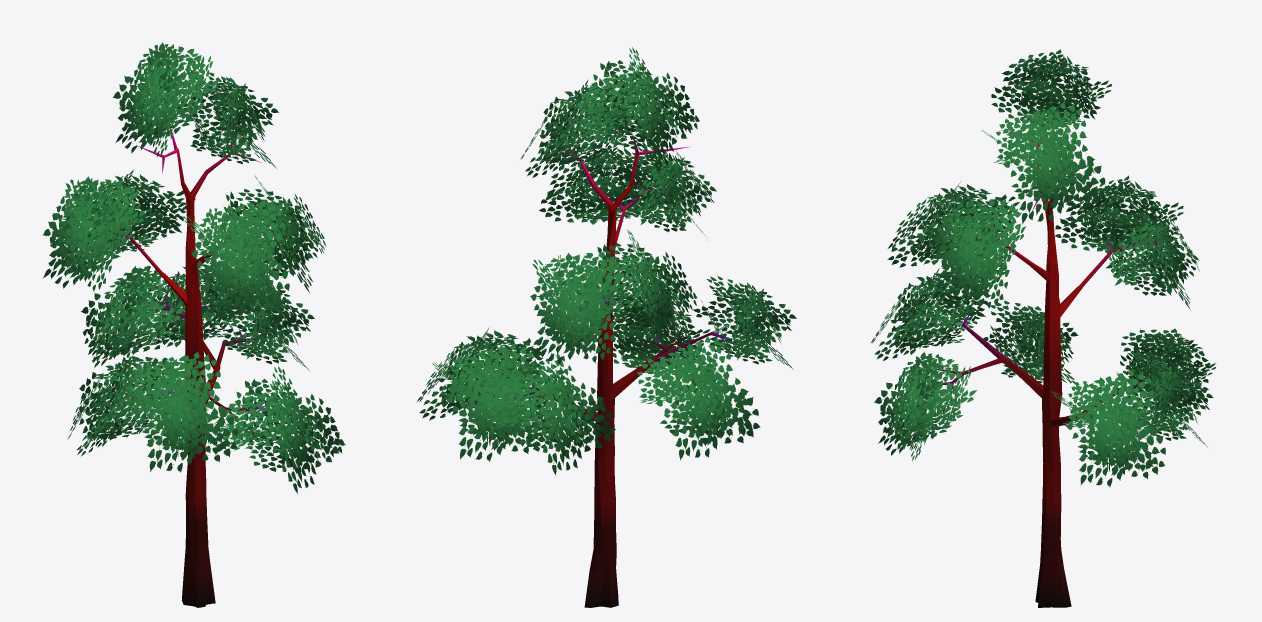
Rendered from PT_Birch_Tree_02_green.fbx.
The picture shows the model from 3 angles, left to right: view 1: azimuth 30°, elevation 25°; view 2: azimuth 150°, elevation 25°; view 3: azimuth 270°, elevation 25°; orthographic projection. The views are drawn at different scales.
Parts seen in each view (by area): view 1: PT_Birch_Tree_02_green_LOD0; view 2: PT_Birch_Tree_02_green_LOD0; view 3: PT_Birch_Tree_02_green_LOD0.
Boxes of the visible parts, x1,y1,x2,y2 form: PT_Birch_Tree_02_green_LOD0: (42, 42, 345, 607); PT_Birch_Tree_02_green_LOD0: (416, 47, 796, 607); PT_Birch_Tree_02_green_LOD0: (870, 49, 1215, 607).
Size of what is drawn, in the model's own units: 543 by 959 by 611.
